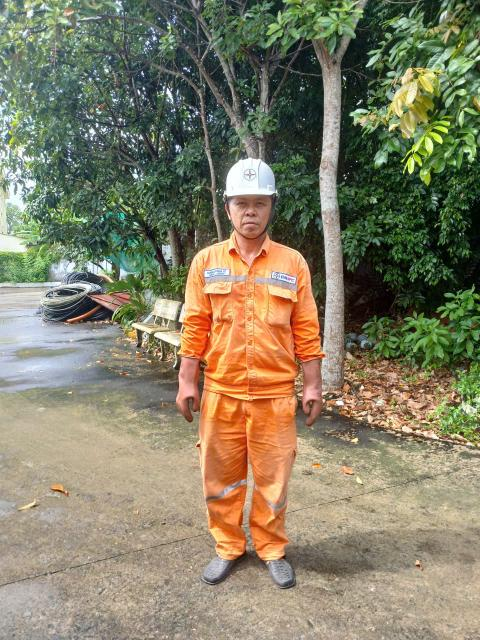gloves: (293, 352, 339, 426), (173, 349, 208, 424)
helmet: (218, 148, 286, 206)
shoes: (197, 542, 244, 585), (263, 546, 304, 594)
